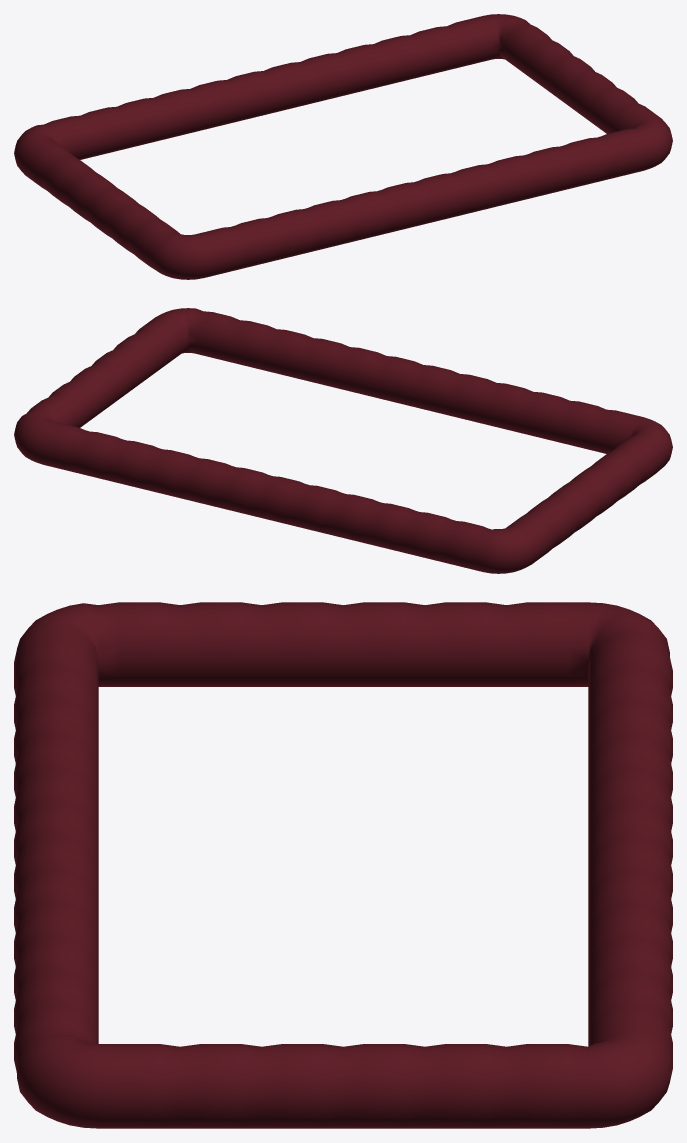
The model's file is rails.glb.
3 views of the same model, one above another, from view 1: azimuth 30°, elevation 25°; view 2: azimuth 150°, elevation 25°; view 3: azimuth 270°, elevation 25° (orthographic). The views are drawn at different scales.
Parts seen in each view (by area): view 1: rails; view 2: rails; view 3: rails.
Boxes of the visible parts, box(x1,y1,x2,y2) form: rails: box(14, 14, 672, 279); rails: box(14, 308, 672, 573); rails: box(14, 602, 672, 1128).
Bounding box in the file's own units: 2.4 × 0.18 × 1.4.
